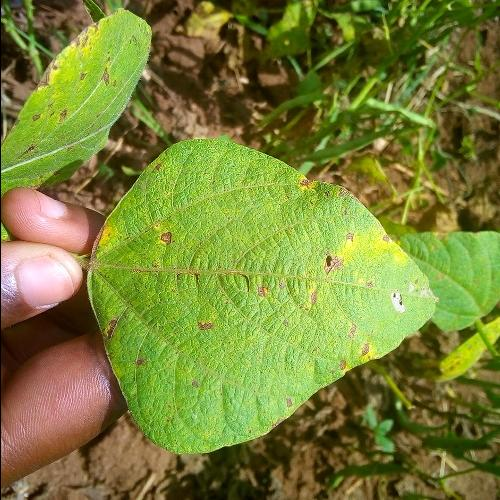hawar: (308, 209, 426, 318), (37, 6, 88, 134), (95, 313, 155, 377), (326, 320, 390, 379), (140, 207, 190, 262), (181, 303, 232, 351)
